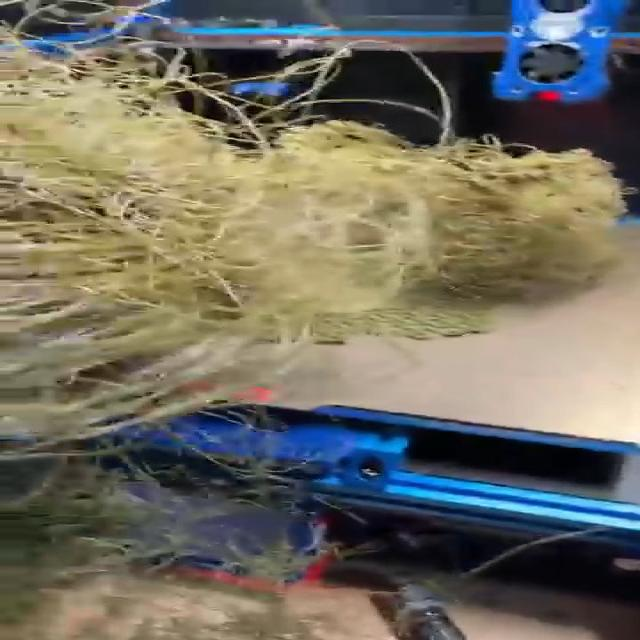spaghetti: (0, 0, 633, 467)
